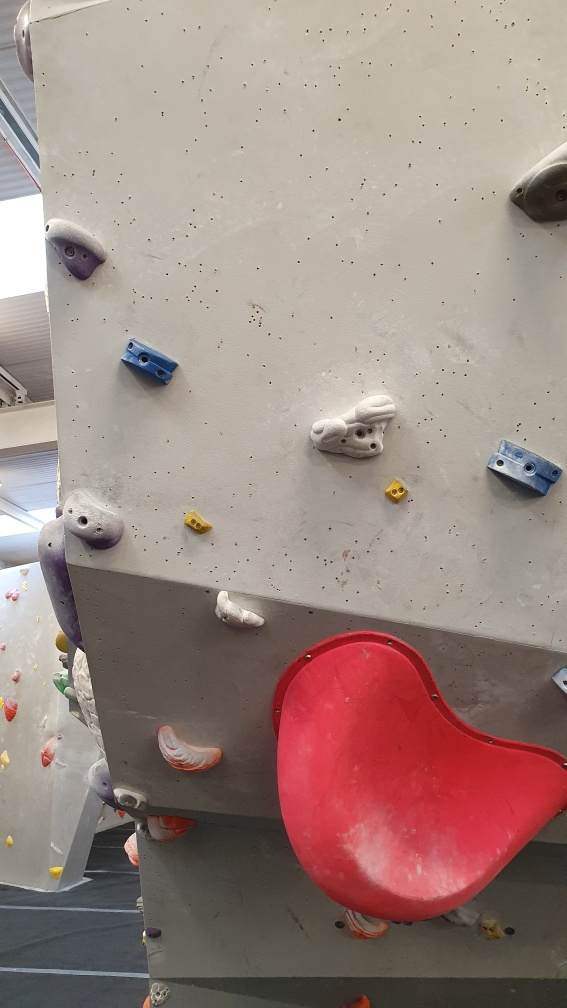Crimp: (180, 506, 218, 541)
Jug: (308, 389, 403, 464), (41, 213, 113, 285), (152, 720, 228, 778), (209, 587, 273, 637)
Pinch: (484, 437, 566, 499), (119, 335, 183, 386), (381, 474, 412, 504)
Sloper: (61, 487, 130, 551)
